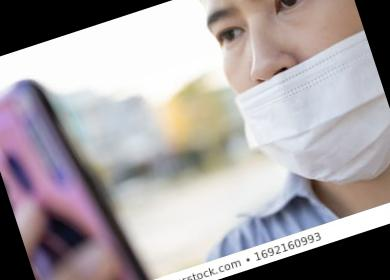mask_weared_incorrect: (197, 1, 390, 200)
